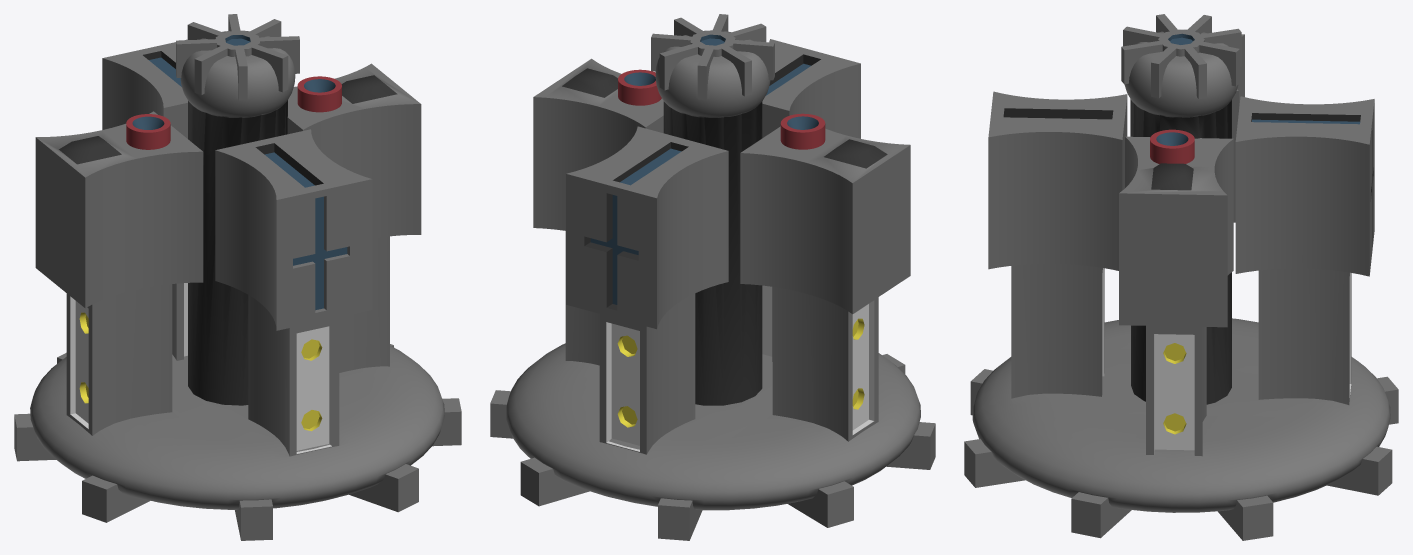
File: Floater_01.fbx
3 renders of one model, left to right at view 1: azimuth 30°, elevation 25°; view 2: azimuth 150°, elevation 25°; view 3: azimuth 270°, elevation 25°, orthographic.
Parts seen in each view (by area): view 1: Model; view 2: Model; view 3: Model.
Part boxes in pixels (x1,y1,x2,y2): Model: [14, 14, 461, 540]; Model: [490, 14, 935, 540]; Model: [964, 14, 1398, 540].
Size of the model in its own units: 177 by 184 by 177.
